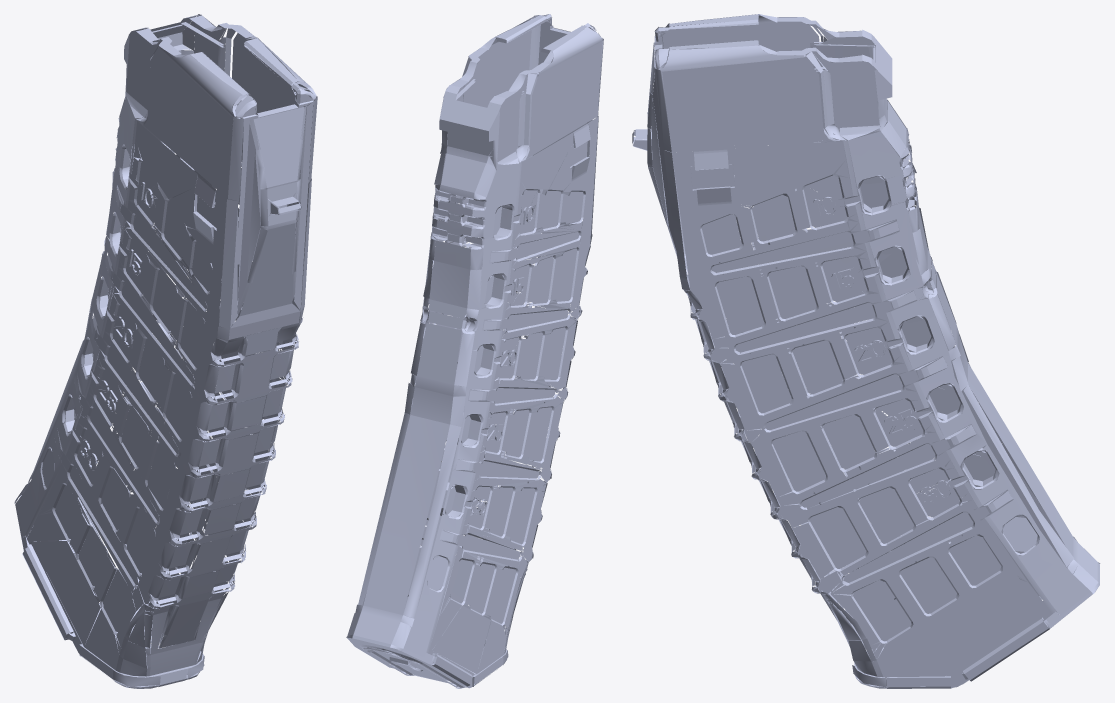
Rendered from AK12_Magazine.glb.
3 renders of one model, left to right at view 1: azimuth 30°, elevation 25°; view 2: azimuth 150°, elevation 25°; view 3: azimuth 270°, elevation 25°, orthographic. The views are drawn at different scales.
Parts seen in each view (by area): view 1: AK12_Magazine; view 2: AK12_Magazine; view 3: AK12_Magazine.
Part boxes in pixels (x1,y1,x2,y2): AK12_Magazine: [14, 14, 317, 688]; AK12_Magazine: [346, 14, 603, 688]; AK12_Magazine: [632, 14, 1100, 688].
Bounding box in the file's own units: 0.0288 × 0.1921 × 0.127.
